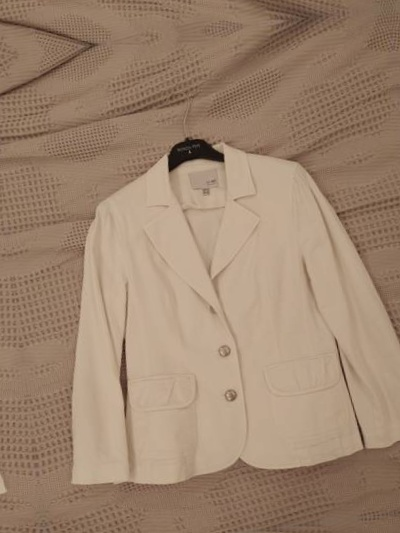Blazer: (17, 94, 400, 511), (0, 147, 20, 533), (399, 45, 400, 463)
